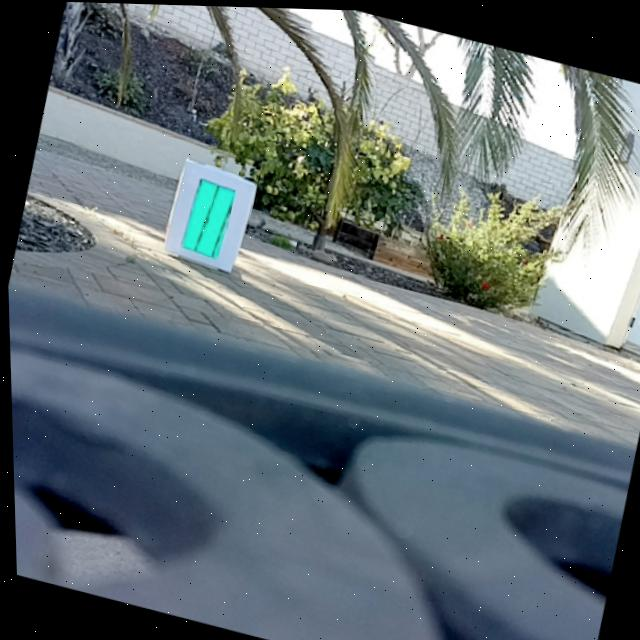led: (177, 173, 238, 260)
